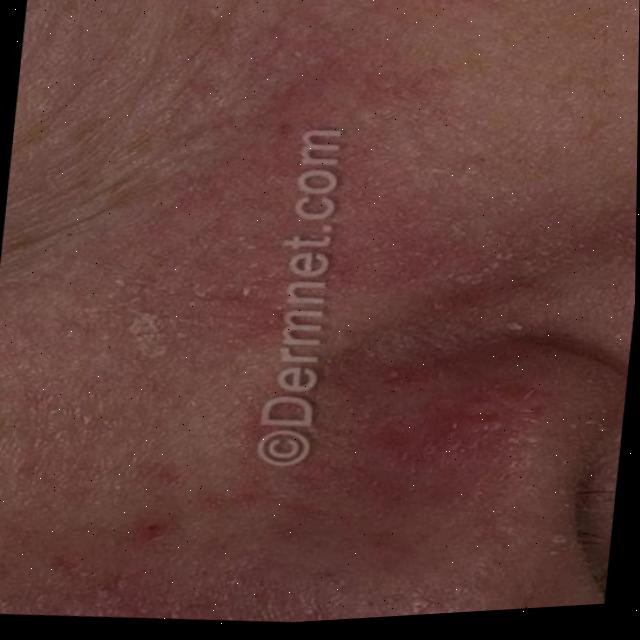Eczema: (0, 5, 639, 640)
